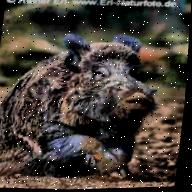boar: (0, 22, 188, 186)
